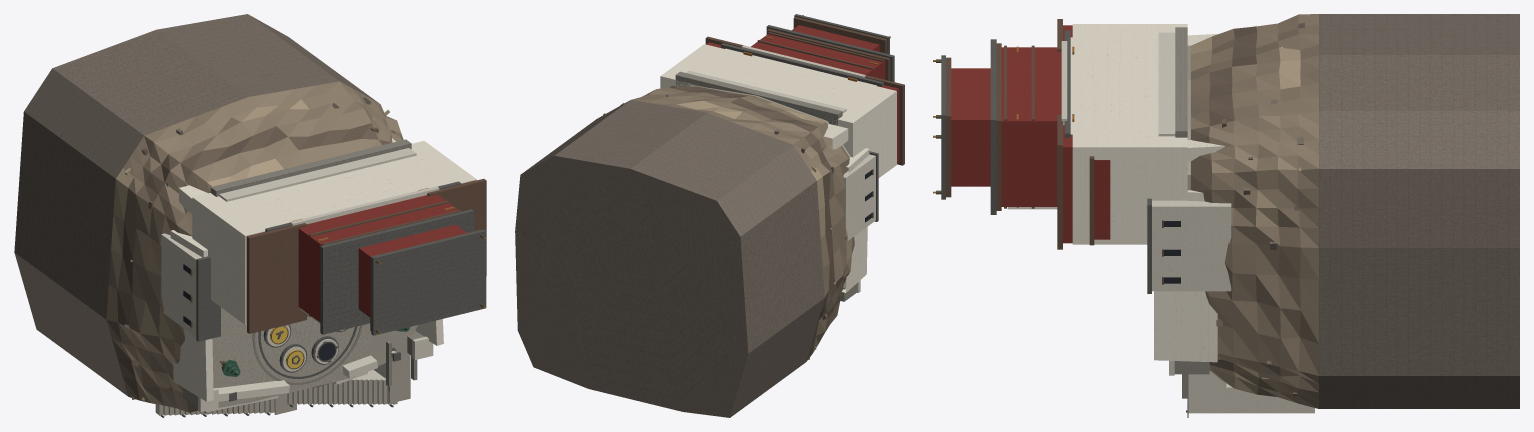
Rendered from Drac_Ust_v4.glb.
3 views of the same model, side by side, from view 1: azimuth 30°, elevation 25°; view 2: azimuth 150°, elevation 25°; view 3: azimuth 270°, elevation 25° (orthographic). The views are drawn at different scales.
Parts seen in each view (by area): view 1: DracUst_v4_bedrock, DracUst_v4_cliff, DracUst_v4_darkstone, DracUst_v4_whitewash, DracUst_v4_paving, DracUst_v4_weather_white, DracUst_v4_wood, DracUst_v4_temple_red, DracUst_v4_cliff_dark, DracUst_v4_granite, DracUst_v4_cliff_light, DracUst_v4_basalt (+1 smaller); view 2: DracUst_v4_bedrock, DracUst_v4_whitewash, DracUst_v4_cliff, DracUst_v4_weather_white, DracUst_v4_temple_red, DracUst_v4_wood, DracUst_v4_cliff_dark, DracUst_v4_darkstone, DracUst_v4_granite, DracUst_v4_cliff_light; view 3: DracUst_v4_bedrock, DracUst_v4_cliff, DracUst_v4_whitewash, DracUst_v4_temple_red, DracUst_v4_weather_white, DracUst_v4_wood, DracUst_v4_cliff_light, DracUst_v4_cliff_dark, DracUst_v4_darkstone, DracUst_v4_granite, DracUst_v4_paving.
Part boxes in pixels (bbox=[...]): DracUst_v4_bedrock: bbox=[14, 14, 378, 396]; DracUst_v4_cliff: bbox=[106, 81, 403, 412]; DracUst_v4_darkstone: bbox=[160, 181, 486, 417]; DracUst_v4_whitewash: bbox=[170, 138, 476, 401]; DracUst_v4_paving: bbox=[159, 162, 417, 415]; DracUst_v4_weather_white: bbox=[155, 148, 439, 414]; DracUst_v4_wood: bbox=[190, 178, 486, 368]; DracUst_v4_temple_red: bbox=[246, 180, 474, 323]; DracUst_v4_cliff_dark: bbox=[106, 123, 394, 400]; DracUst_v4_granite: bbox=[183, 139, 424, 408]; DracUst_v4_cliff_light: bbox=[111, 99, 389, 400]; DracUst_v4_basalt: bbox=[258, 325, 395, 378]; DracUst_v4_bedrock: bbox=[515, 93, 836, 417]; DracUst_v4_whitewash: bbox=[660, 44, 896, 292]; DracUst_v4_cliff: bbox=[631, 86, 854, 352]; DracUst_v4_weather_white: bbox=[686, 45, 875, 292]; DracUst_v4_temple_red: bbox=[706, 25, 899, 162]; DracUst_v4_wood: bbox=[705, 17, 904, 218]; DracUst_v4_cliff_dark: bbox=[669, 85, 846, 361]; DracUst_v4_darkstone: bbox=[721, 14, 894, 221]; DracUst_v4_granite: bbox=[675, 71, 857, 301]; DracUst_v4_cliff_light: bbox=[603, 100, 852, 359]; DracUst_v4_bedrock: bbox=[1216, 14, 1519, 408]; DracUst_v4_cliff: bbox=[1190, 14, 1318, 408]; DracUst_v4_whitewash: bbox=[1007, 24, 1224, 362]; DracUst_v4_temple_red: bbox=[951, 25, 1110, 243]; DracUst_v4_weather_white: bbox=[1061, 32, 1314, 413]; DracUst_v4_wood: bbox=[946, 19, 1163, 284]; DracUst_v4_cliff_light: bbox=[1191, 25, 1301, 394]; DracUst_v4_cliff_dark: bbox=[1191, 26, 1298, 396]; DracUst_v4_darkstone: bbox=[941, 30, 1187, 412]; DracUst_v4_granite: bbox=[1174, 27, 1209, 398]; DracUst_v4_paving: bbox=[1187, 45, 1190, 417].
Bounding box in the file's own units: 89.04 × 88.8 × 148.
18 materials, 18 textured.
